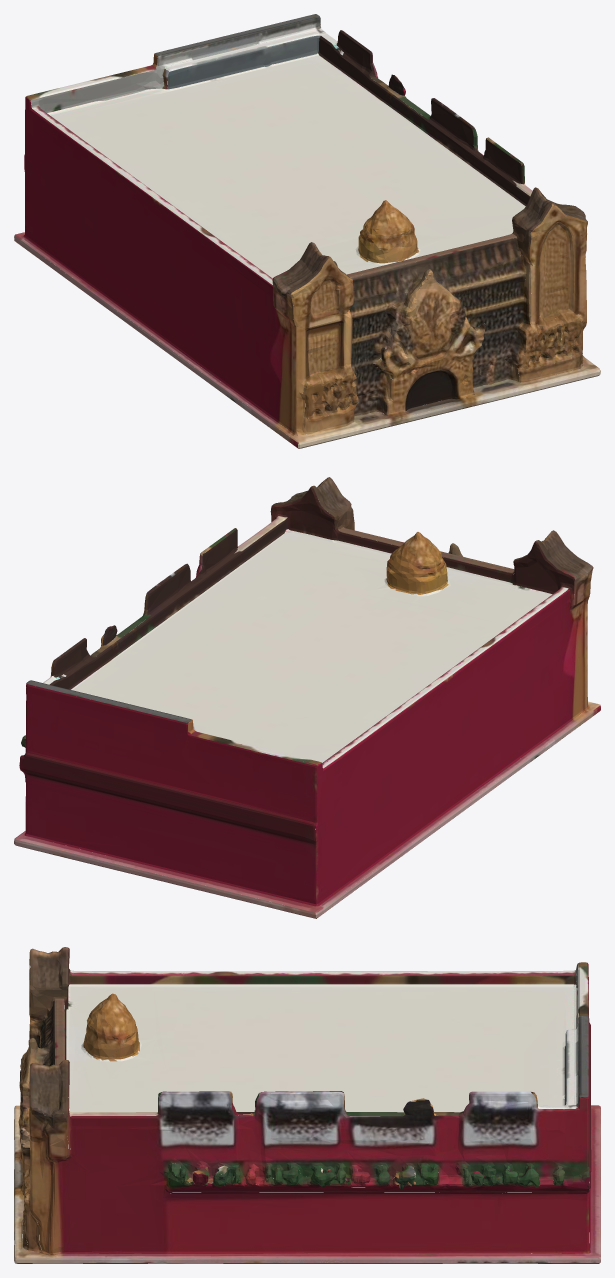
Rendered from 05_theater_2.glb.
The picture shows the model from 3 angles, top to bottom: view 1: azimuth 30°, elevation 25°; view 2: azimuth 150°, elevation 25°; view 3: azimuth 270°, elevation 25°; orthographic projection. The views are drawn at different scales.
Parts seen in each view (by area): view 1: 05_theater_2.ply; view 2: 05_theater_2.ply; view 3: 05_theater_2.ply.
Part boxes in pixels (box(x1,y1,x2,y2)): 05_theater_2.ply: box(14, 14, 600, 448); 05_theater_2.ply: box(14, 477, 600, 918); 05_theater_2.ply: box(14, 947, 600, 1263).
Bounding box in the file's own units: 0.6454 × 0.3508 × 0.9999.
Materials: 1 (1 with a texture image).
